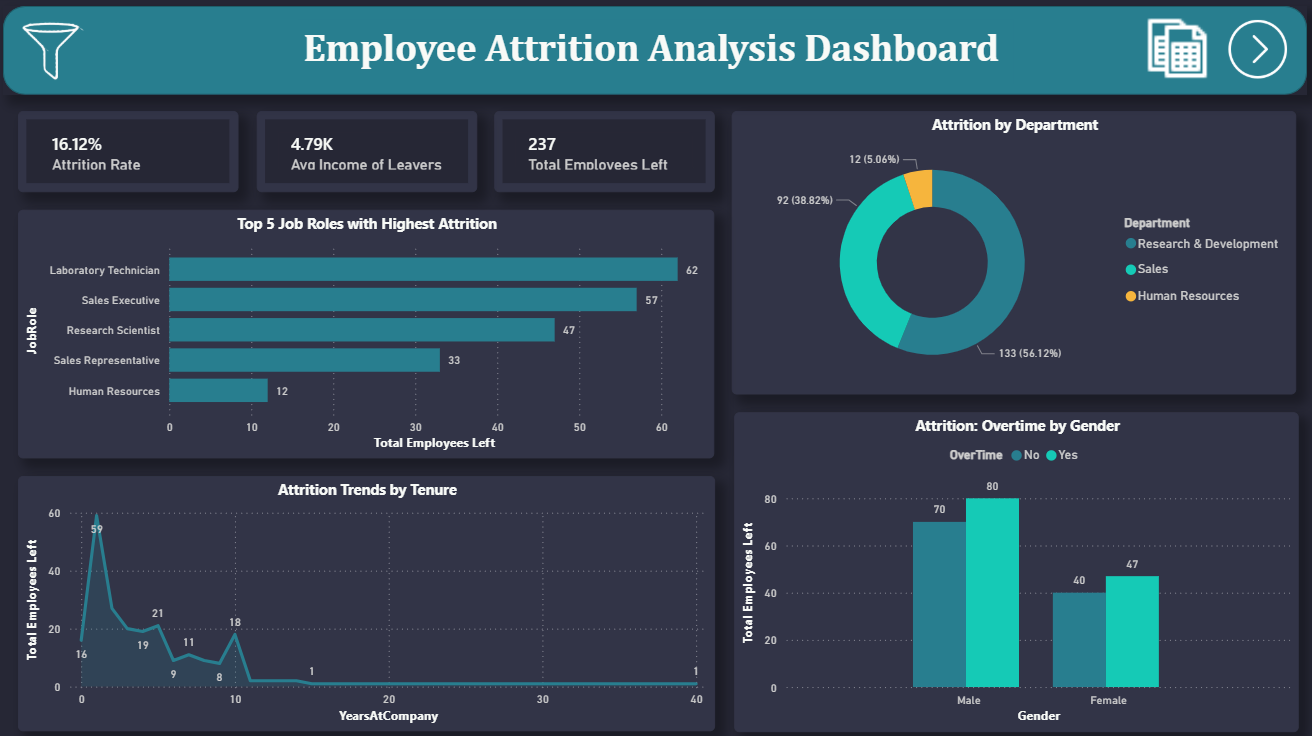

The page's visual inventory and layout, read from the dashboard file:
{"tool":"powerbi","page":{"name":"Page 1","canvas":[1280,720],"ordinal":0},"visuals":[{"type":"cardVisual","fields":{"Data":["Data.Attrition Rate"]},"box":[24.3,111.4,212.9,78.6],"z":0},{"type":"cardVisual","fields":{"Data":["Data.Total Employees Left"]},"box":[484.3,111.4,212.9,78.6],"z":1000},{"type":"cardVisual","fields":{"Data":["Data.Avg Income of Leavers"]},"box":[254.3,111.4,212.9,78.6],"z":2000},{"type":"donutChart","title":"Attrition by Department","fields":{"Category":["Data.Department"],"Y":["Data.Total Employees Left"]},"box":[712.5,111.2,545,273.8],"z":3000},{"type":"clusteredBarChart","title":"Top 5 Job Roles with Highest Attrition","fields":{"Category":["Data.JobRole"],"Y":["Data.Total Employees Left"]},"box":[24.1,206.3,672,240.1],"z":4000},{"type":"areaChart","title":"Attrition Trends by Tenure","fields":{"Category":["Data.YearsAtCompany"],"Y":["Data.Total Employees Left"]},"box":[23.8,463.8,672.5,246.2],"z":5000},{"type":"clusteredColumnChart","title":"Attrition: Overtime by Gender","fields":{"Category":["Data.Gender"],"Y":["Data.Total Employees Left"],"Series":["Data.OverTime"]},"box":[715,401.2,545,308.8],"z":6000},{"type":"group","id":"g1","title":"Group 1","box":[10,10,1258.6,85.7],"z":6500},{"type":"shape","box":[10,10,1258.6,85.7],"z":7000,"group":"g1"},{"type":"textbox","box":[295,23.3,690,61.7],"z":8000,"group":"g1"},{"type":"image","box":[1105.1,18.1,76,65.1],"z":8001},{"type":"image","box":[10,12.5,92.5,80],"z":9000,"group":"g1"},{"type":"image","box":[1181.2,21.2,78.8,61.2],"z":10000,"group":"g1"}]}

Visuals, with their boxes in screenshot pixels (x1, y1, x2, y2), scaled from the page's 1280x720 canvas onto the 1312x736 screenshot:
cardVisual - Data.Attrition Rate: bbox=(25, 114, 243, 194)
cardVisual - Data.Total Employees Left: bbox=(496, 114, 715, 194)
cardVisual - Data.Avg Income of Leavers: bbox=(261, 114, 479, 194)
"Attrition by Department" donutChart: bbox=(730, 114, 1289, 394)
"Top 5 Job Roles with Highest Attrition" clusteredBarChart: bbox=(25, 211, 714, 456)
"Attrition Trends by Tenure" areaChart: bbox=(24, 474, 714, 726)
"Attrition: Overtime by Gender" clusteredColumnChart: bbox=(733, 410, 1292, 726)
"Group 1" group: bbox=(10, 10, 1300, 98)
shape: bbox=(10, 10, 1300, 98)
textbox: bbox=(302, 24, 1010, 87)
image: bbox=(1133, 19, 1211, 85)
image: bbox=(10, 13, 105, 95)
image: bbox=(1211, 22, 1292, 84)
